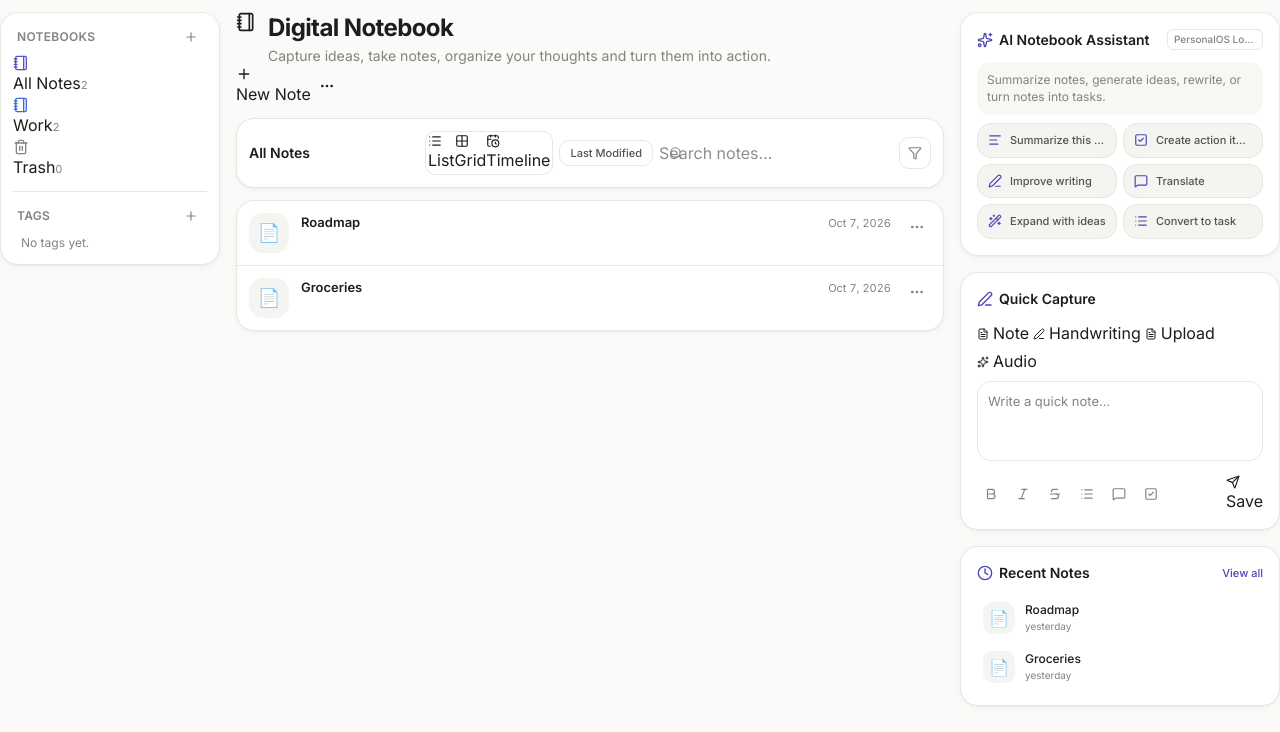
Test: note list and layouts › searches notes
Type "roadmap" into the field labelled "Search notes" at {"x": 776, "y": 153}, box [659, 141, 893, 165]
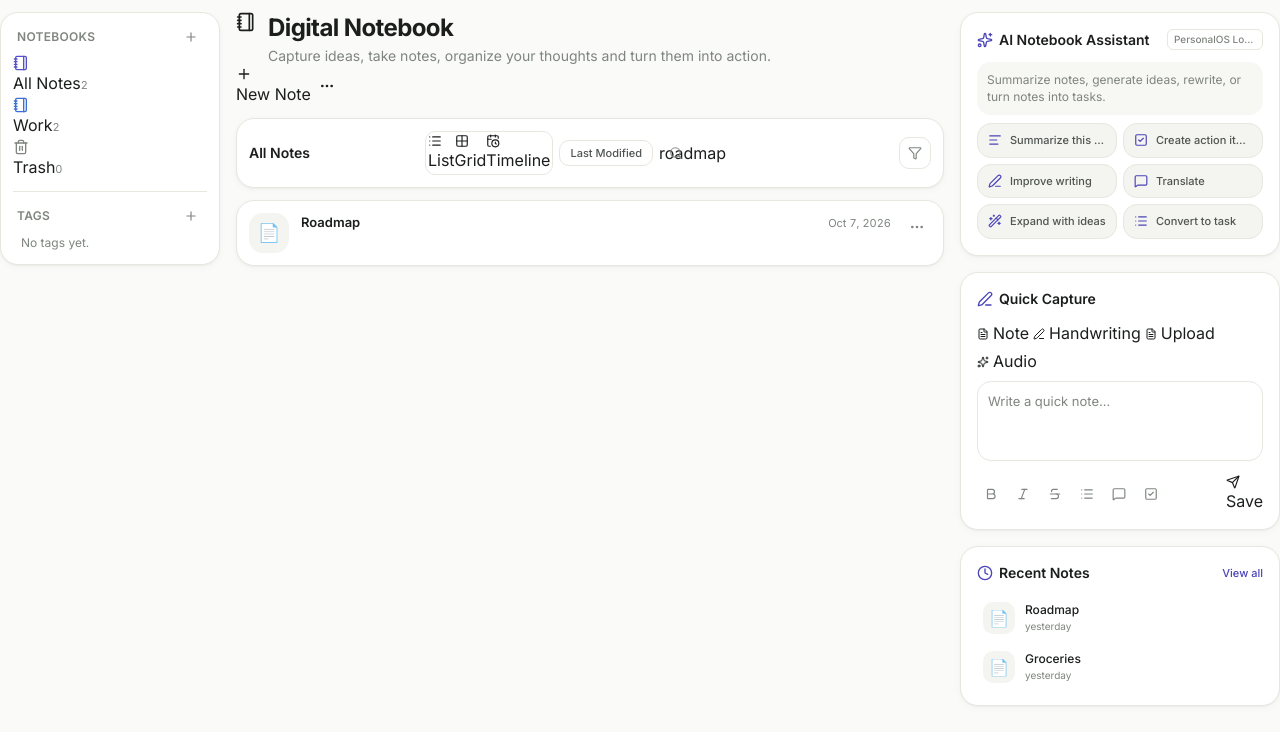
Expected: the number of list items with test id "notebook-note-row" is 1, [237, 201, 943, 265]
